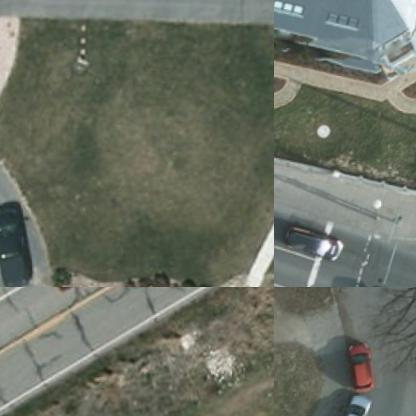car: (280, 223, 344, 262), (0, 207, 29, 286), (344, 334, 376, 392), (335, 397, 377, 415)
